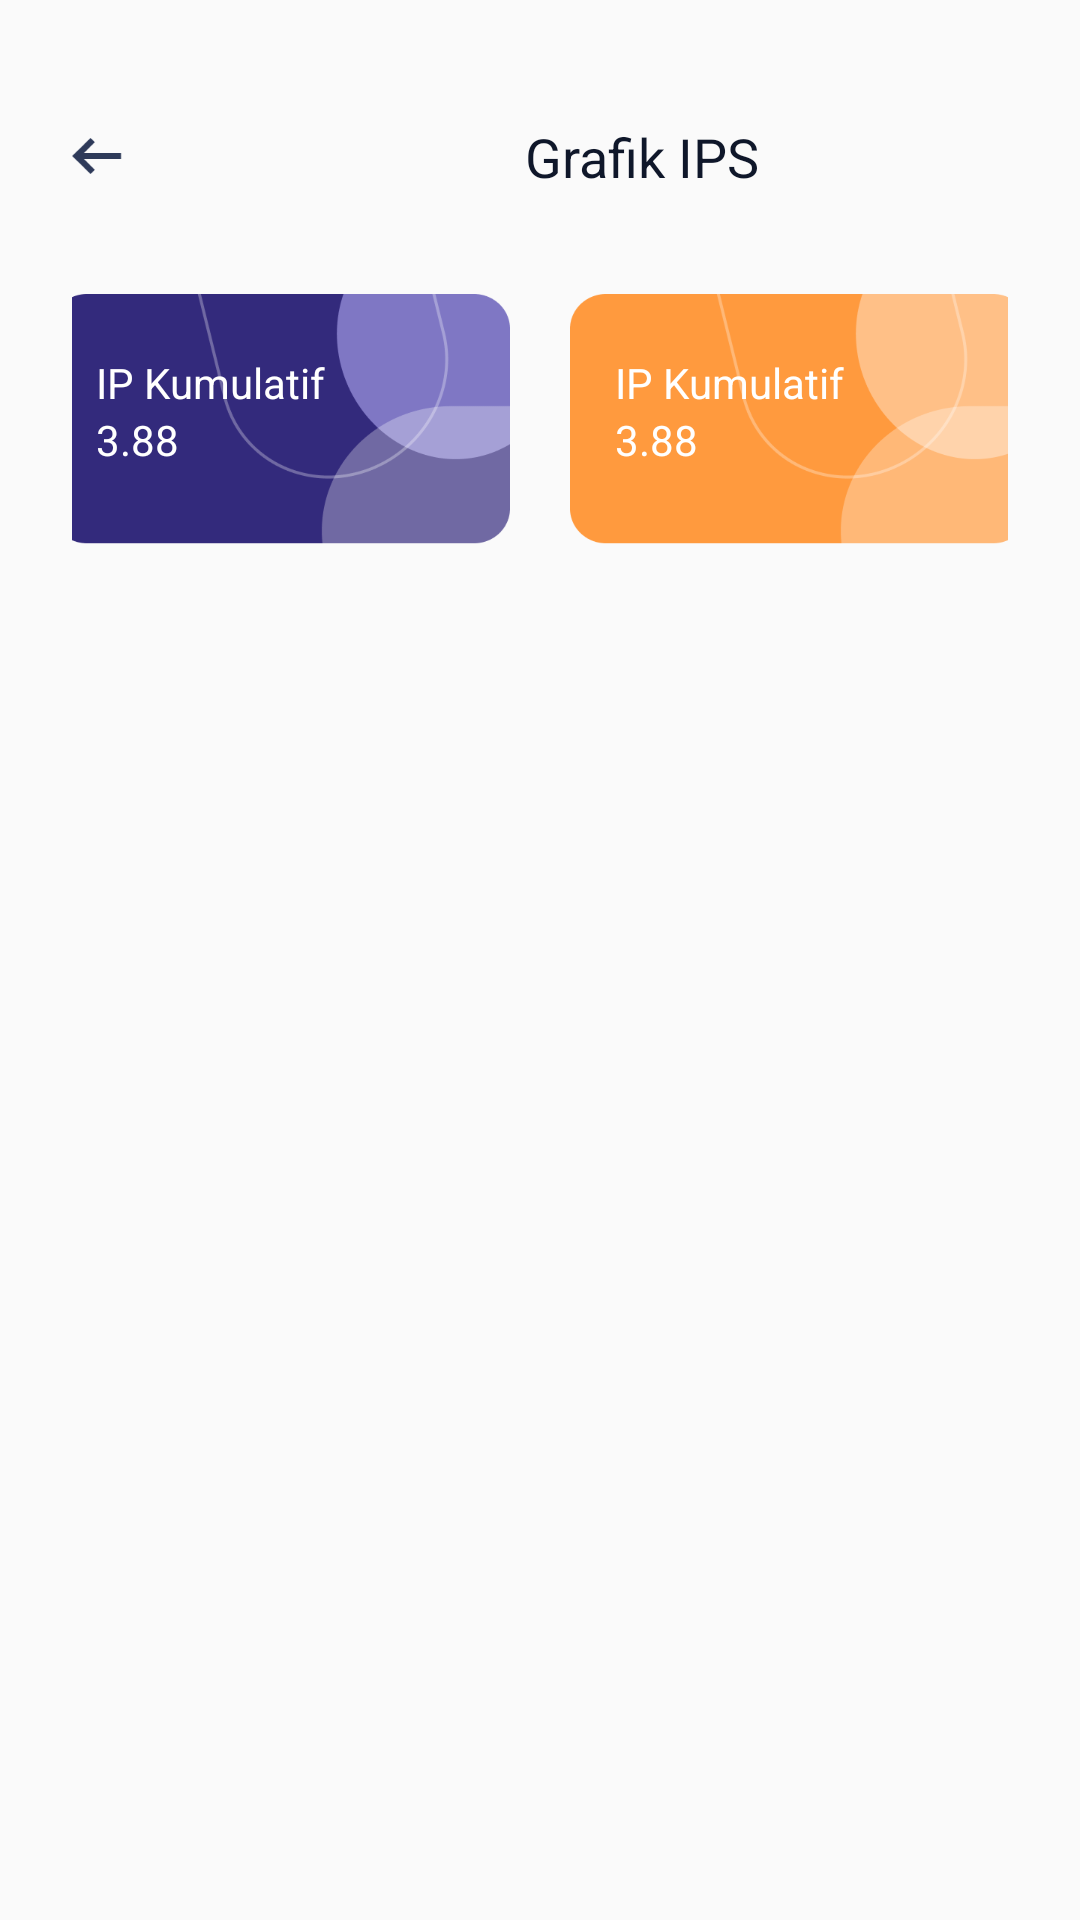

Icon bounding boxes for this 1080px×1920px phone screenshot, format {"x1": x1, "y1": y1, "x2": x2, "y2": y2}:
arrow: {"x1": 72, "y1": 138, "x2": 122, "y2": 174}
